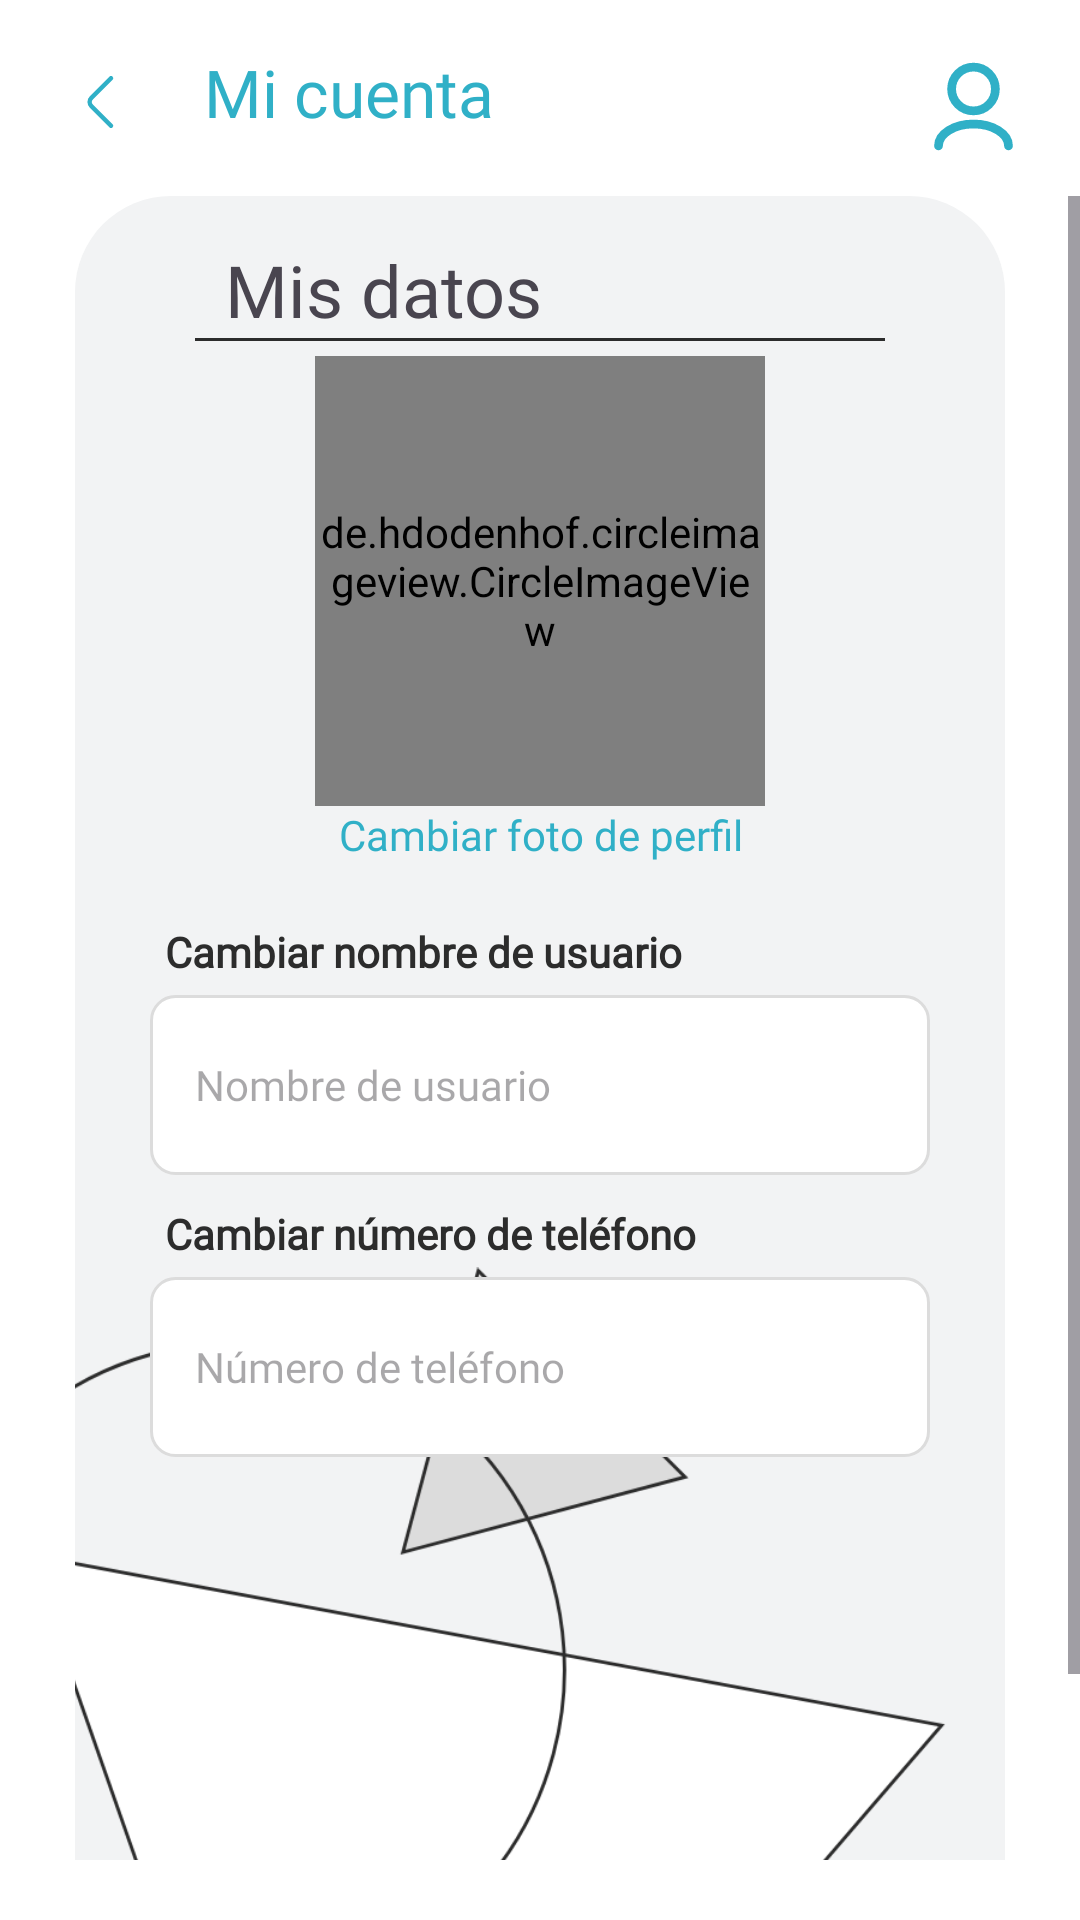

Icons on this 1080*1920 Android screen, each with its box as (x1, y1, x2, y2):
Botón para regresar: (87, 76, 114, 128)
userimg: (934, 62, 1013, 151)
